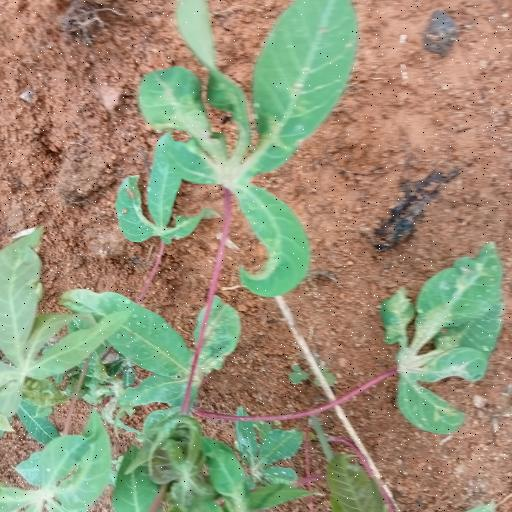Cassava_Mosaic: (148, 0, 342, 283), (385, 251, 505, 439)
